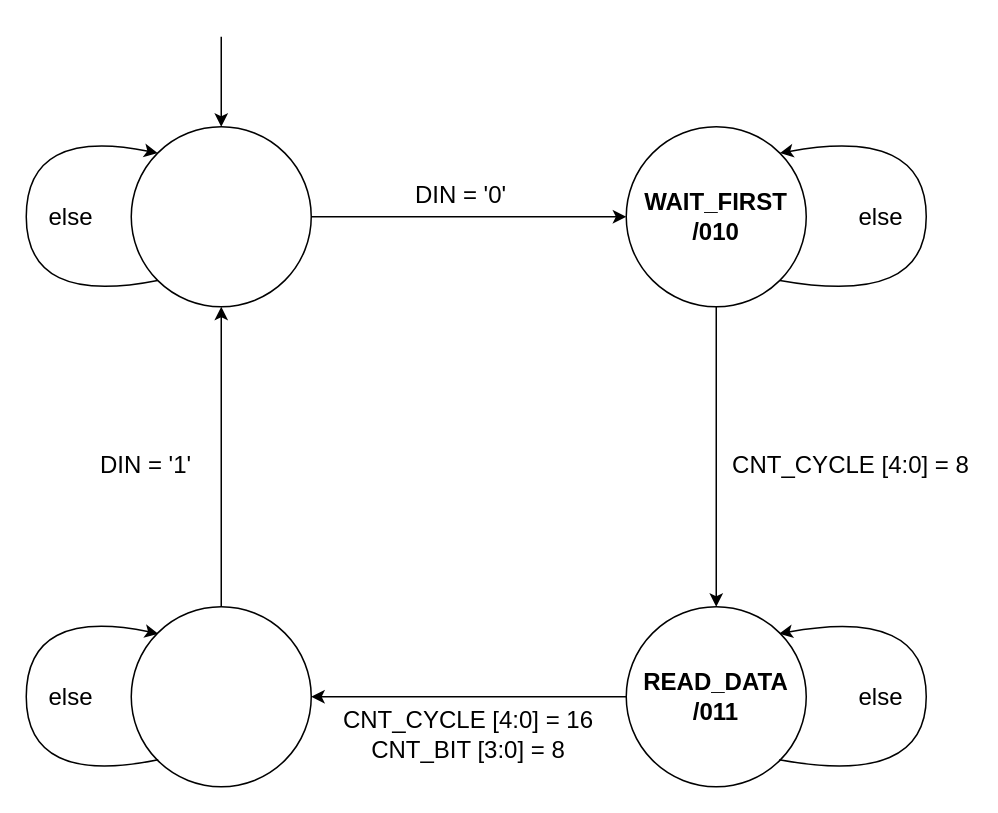
Some shapes in this 998 by 813 pixel diagram are drawn without their labels. Each missing label, with the centre of its shape:
"IDLE/000" goes at [220,216].
"STOP_READ /100" goes at [220,696].
